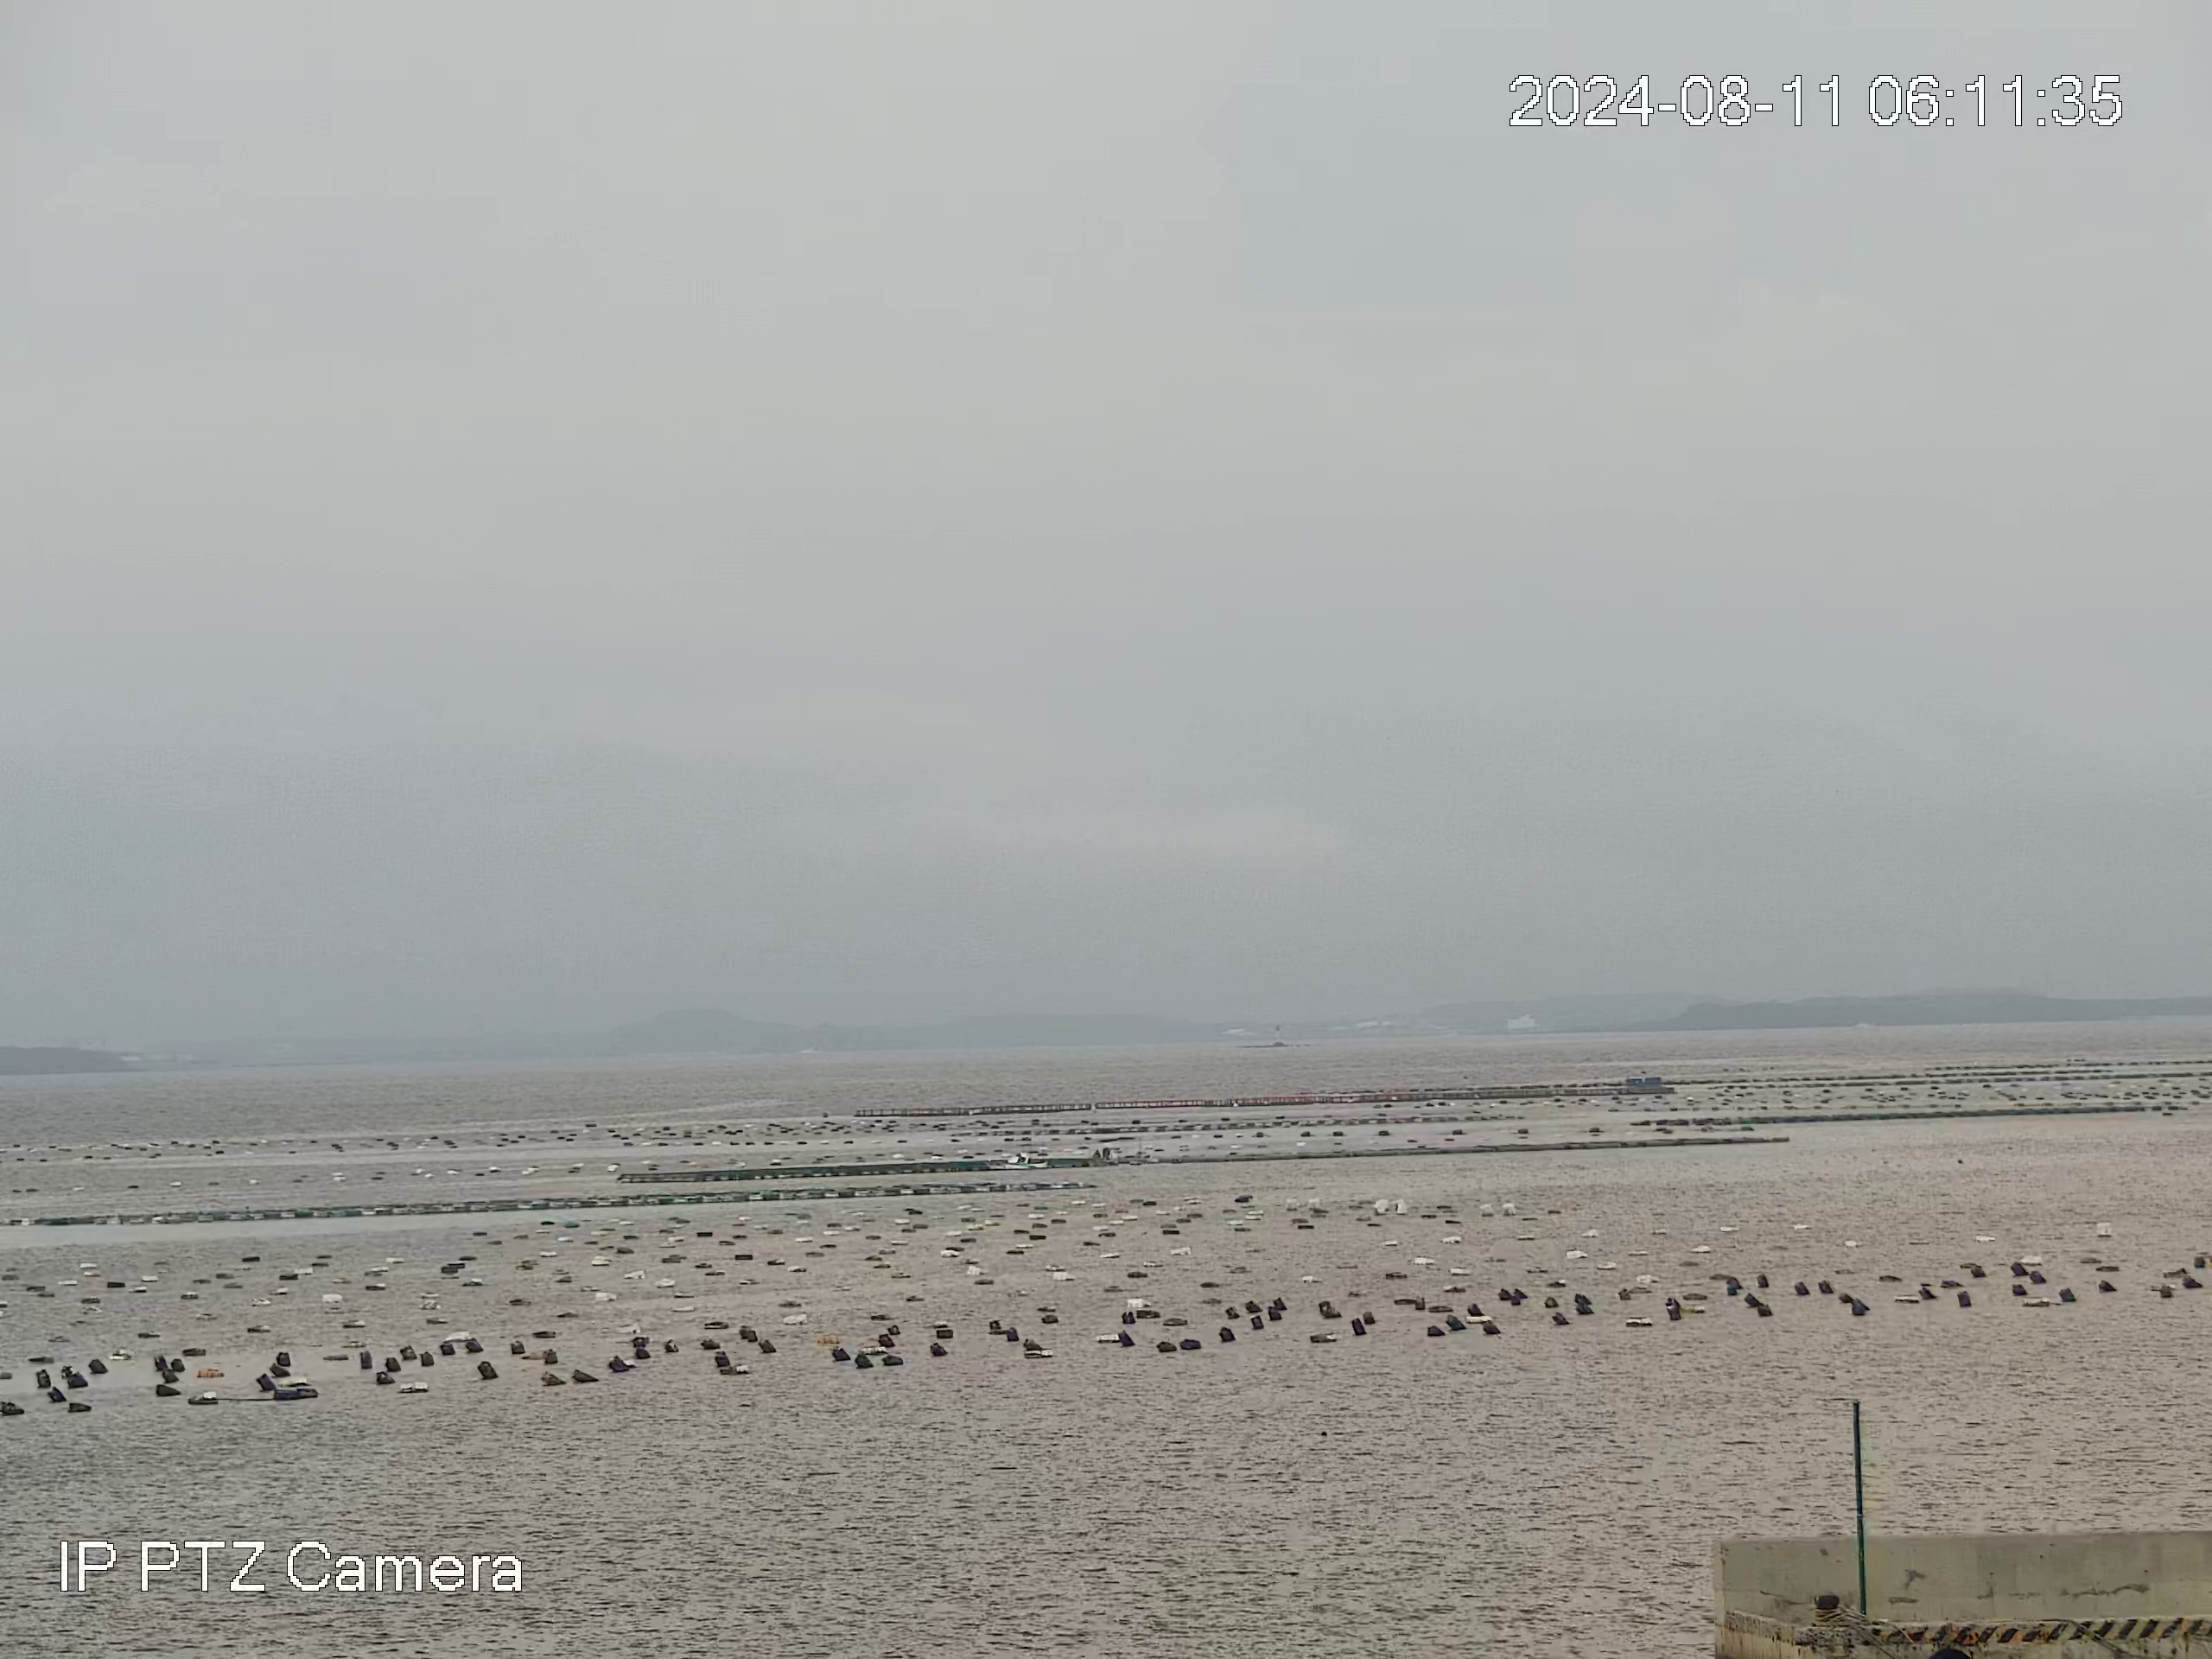boat: (981, 1150, 1050, 1173)
